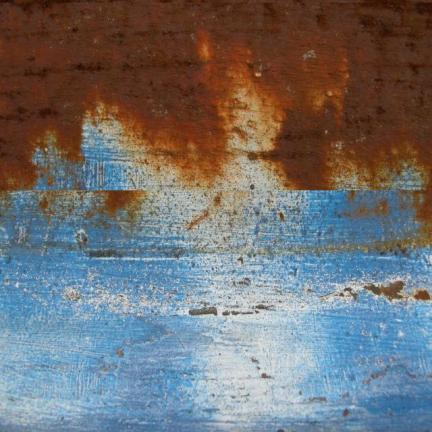karat: (0, 0, 431, 195)
